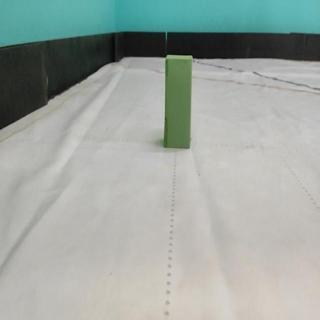greenbox: (163, 55, 194, 149)
